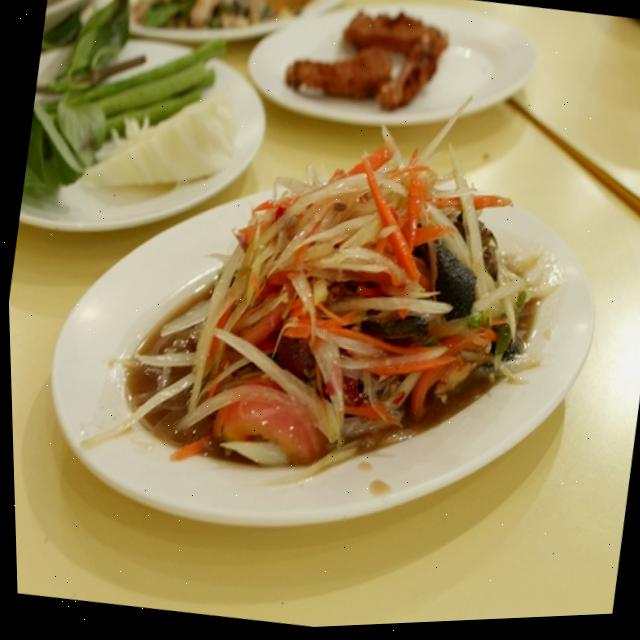蔬菜料理: (6, 0, 609, 595)
